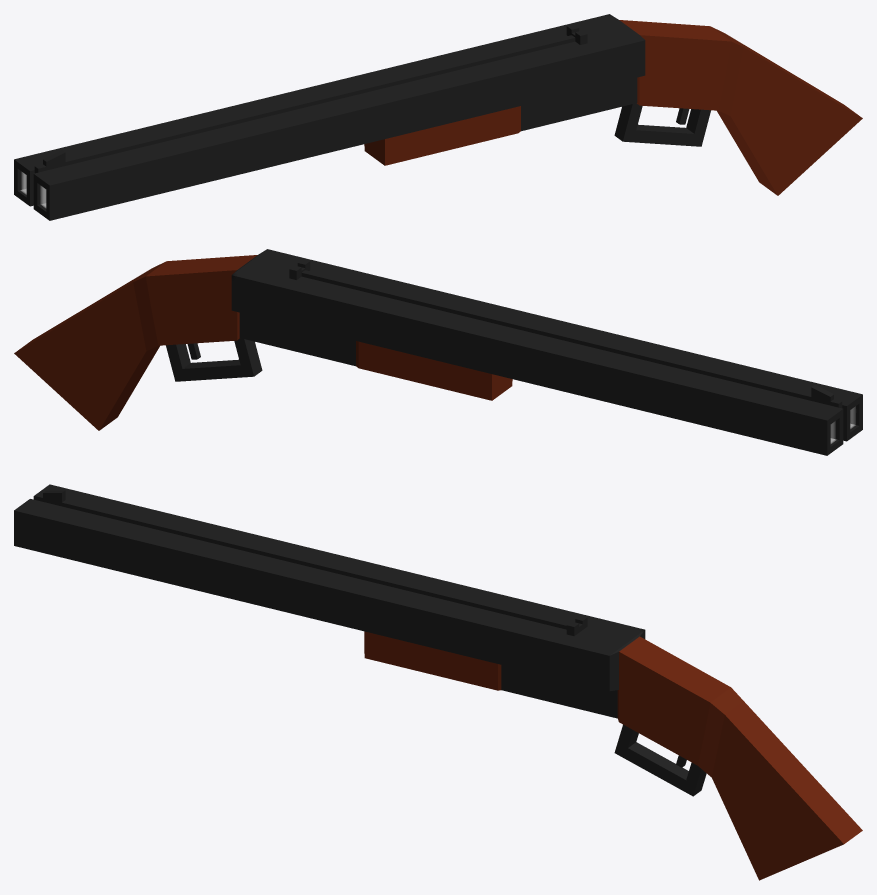
Rendered from shotgun.fbx.
The picture shows the model from 3 angles, top to bottom: view 1: azimuth 30°, elevation 25°; view 2: azimuth 150°, elevation 25°; view 3: azimuth 330°, elevation 25°; orthographic projection.
Visible parts, largest first — view 1: Shotgun; view 2: Shotgun; view 3: Shotgun.
Boxes of the visible parts, x1,y1,x2,y2 form: Shotgun: (14,14,862,220); Shotgun: (14,249,862,455); Shotgun: (14,484,862,880).
Bounding box in the file's own units: 1.01 × 0.2475 × 0.0763.
